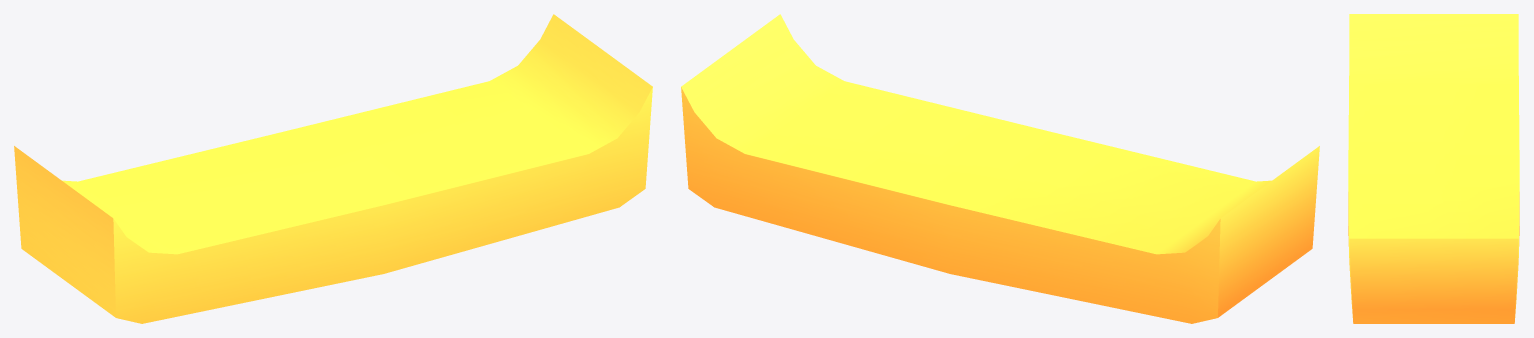
File: gold_and_steel_guard_035.glb
3 views of the same model, side by side, from view 1: azimuth 30°, elevation 25°; view 2: azimuth 150°, elevation 25°; view 3: azimuth 270°, elevation 25° (orthographic). The views are drawn at different scales.
Visible parts, largest first — view 1: gold_and_steel_guard_035; view 2: gold_and_steel_guard_035; view 3: gold_and_steel_guard_035.
Boxes of the visible parts, box(x1,y1,x2,y2) form: gold_and_steel_guard_035: box(14, 14, 652, 323); gold_and_steel_guard_035: box(681, 14, 1319, 323); gold_and_steel_guard_035: box(1348, 14, 1519, 323).
Size of the model in its own units: 6.1 by 1.31 by 1.97.
1 material, 1 textured.
